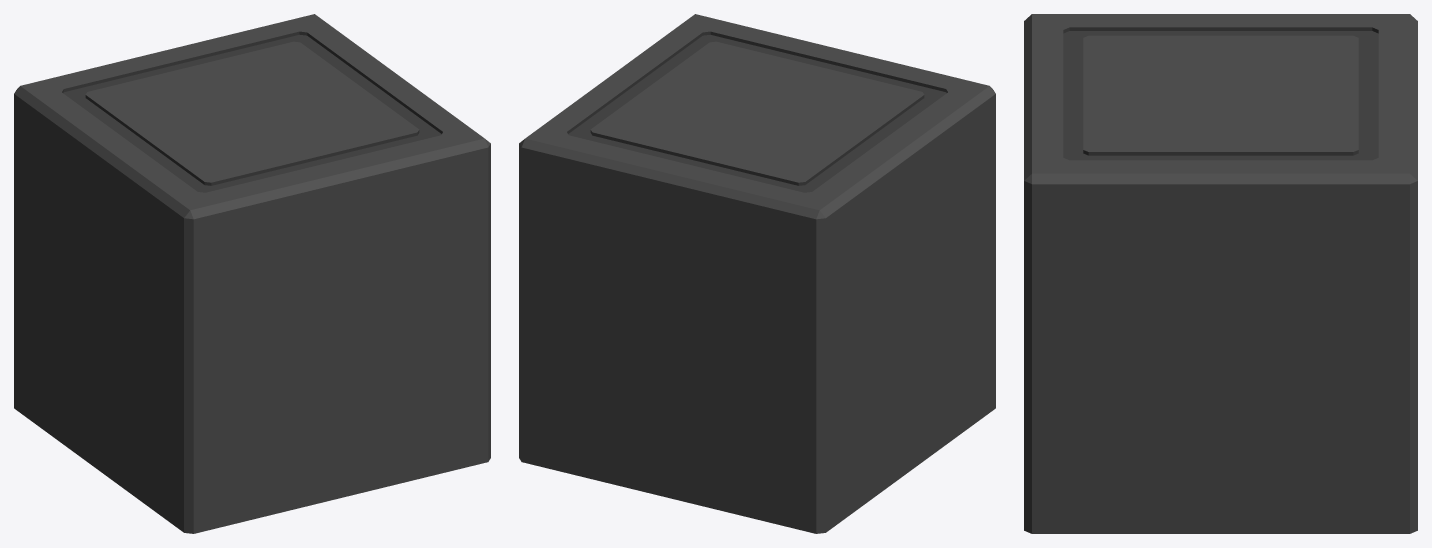
Rendered from HJD_SFB_Platform_01.fbx.
3 views of the same model, side by side, from view 1: azimuth 30°, elevation 25°; view 2: azimuth 150°, elevation 25°; view 3: azimuth 270°, elevation 25° (orthographic). The views are drawn at different scales.
Parts seen in each view (by area): view 1: HJD_SFB_Asset; view 2: HJD_SFB_Asset; view 3: HJD_SFB_Asset.
Boxes of the visible parts, x1,y1,x2,y2 form: HJD_SFB_Asset: [14, 14, 490, 533]; HJD_SFB_Asset: [519, 14, 995, 533]; HJD_SFB_Asset: [1024, 14, 1417, 533].
Bounding box in the file's own units: 100 × 100 × 100.
